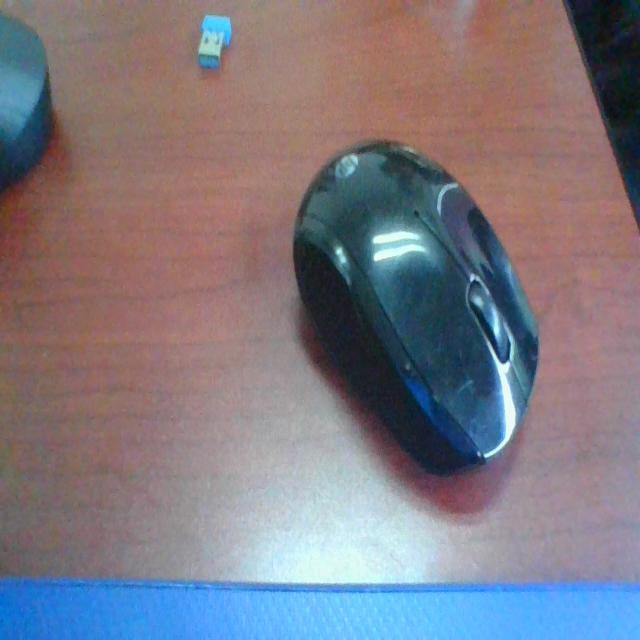mouse: (285, 122, 567, 482)
